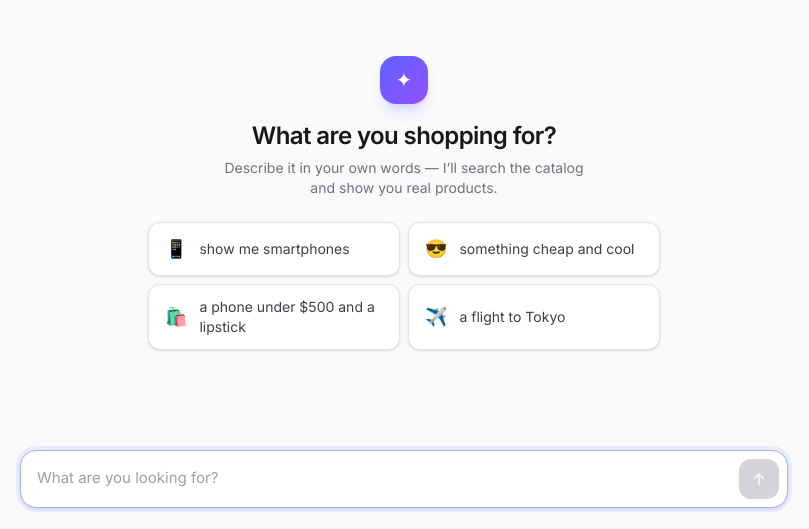
Test: ChatView › keeps the partial text on a mid-stream error and resends the same Message on Retry (AC2.3)
Later steps or results of the test are not shown.
Type "smartphones" into the text box named "Message" at (380, 479), box [29,459,731,499]
Then press Enter
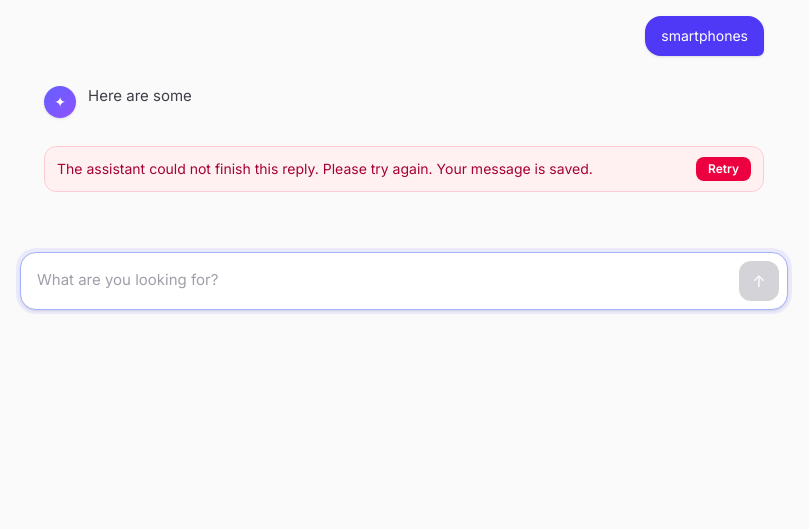
Expected: the text box named "Message" is enabled, [29,261,731,301]
Expected: the message shows "The assistant could not finish this reply.", [57,160,433,177]
Expected: the text "Here are some" is shown, [88,86,192,105]
